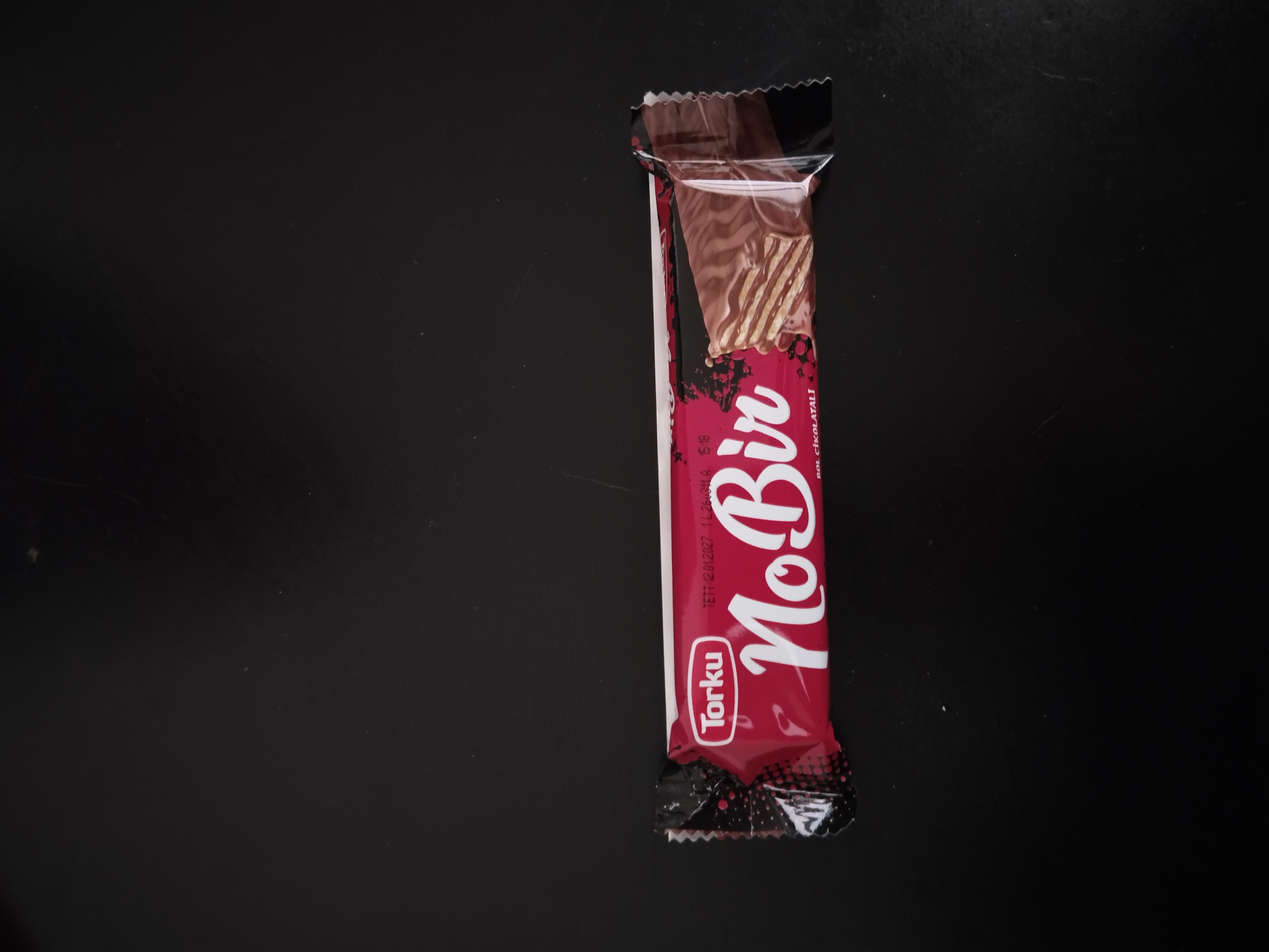torku_nobir_gofret: (640, 91, 853, 846)
